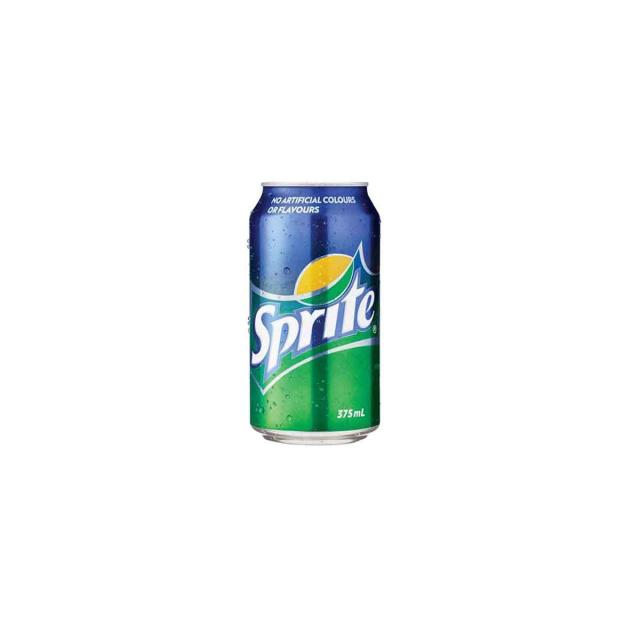sprite: (246, 185, 391, 447)
